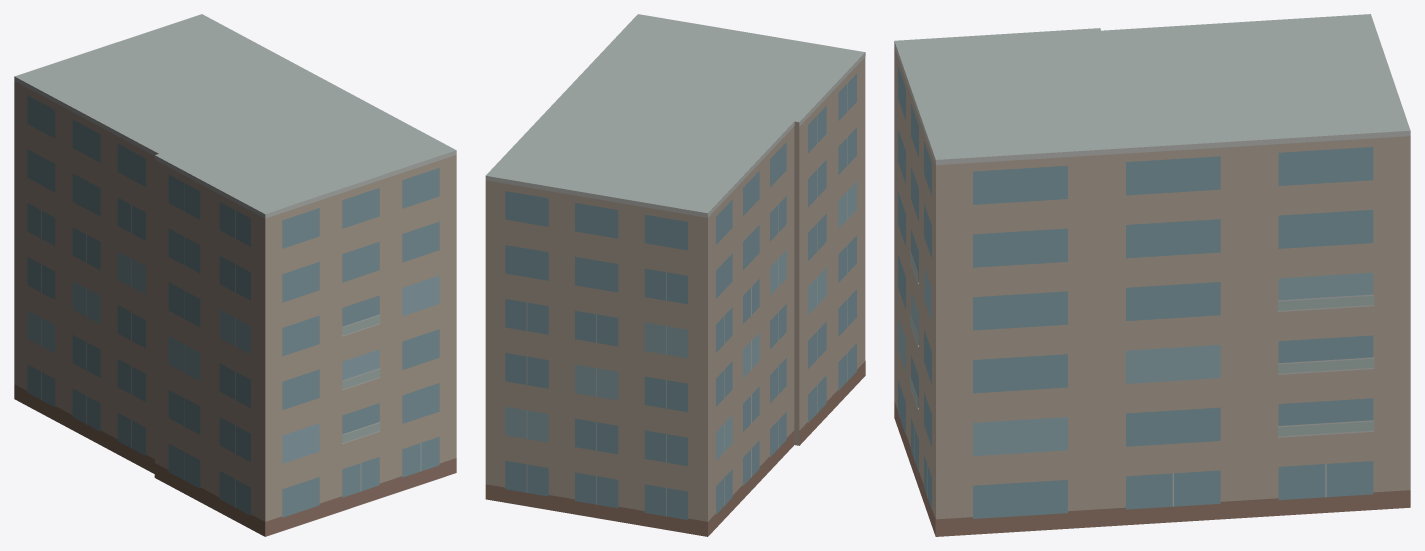
File: survey-upis-32532706.glb
The picture shows the model from 3 angles, left to right: view 1: azimuth 30°, elevation 25°; view 2: azimuth 150°, elevation 25°; view 3: azimuth 270°, elevation 25°; orthographic projection. The views are drawn at different scales.
Parts seen in each view (by area): view 1: survey-upis-32532706.tmp; view 2: survey-upis-32532706.tmp; view 3: survey-upis-32532706.tmp.
Boxes of the visible parts, left/top/right/bottom form: survey-upis-32532706.tmp: left=14, top=14, right=456, bottom=536; survey-upis-32532706.tmp: left=485, top=14, right=865, bottom=536; survey-upis-32532706.tmp: left=894, top=14, right=1410, bottom=536.
Bounding box in the file's own units: 14.46 × 17.4 × 21.61.
